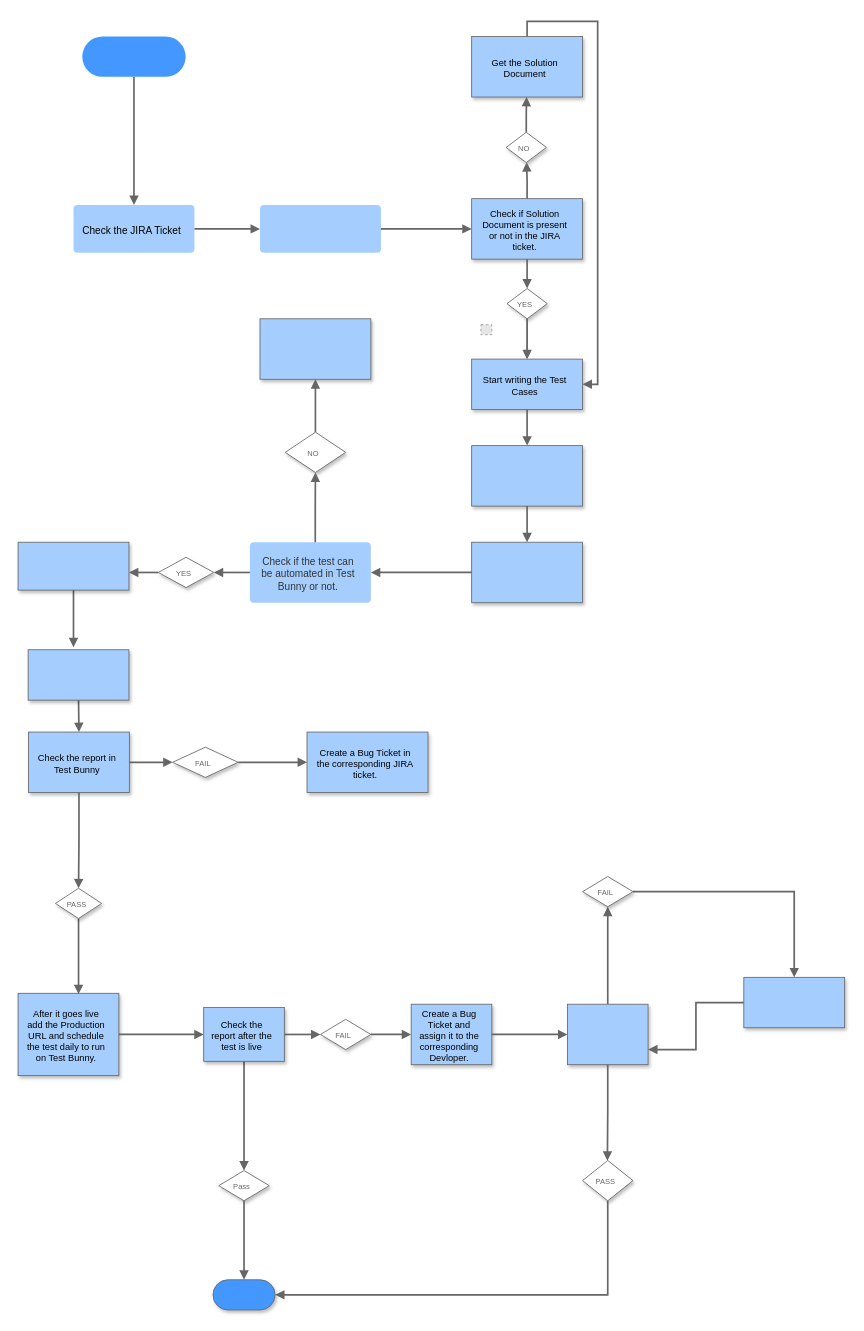
Image size: 864x1331. Some labels were removed from this diagram. Grey dashed boxes stand in for pictures. Here are the shapes that lost their labels. From the top down, the centre of each, then its label:
At [133,56]: "Start".
At [320,228]: "Understand the Requirement in the Refinment call".
At [316,350]: "Create a JIRA ticket for Test Bunny for any feature that is missing.".
At [527,476]: "Get it reviewed by any Dev / QA".
At [74,567]: "Create the test in Test Bunny.".
At [527,573]: "Upload the Test case in Lumery Report Sheet".
At [79,676]: "Run the Test in Test Bunny.".
At [795,1003]: "Assign it to the developer".
At [608,1035]: "After it gets fixed, Re-Run the report and check it.".
At [244,1296]: "END".
